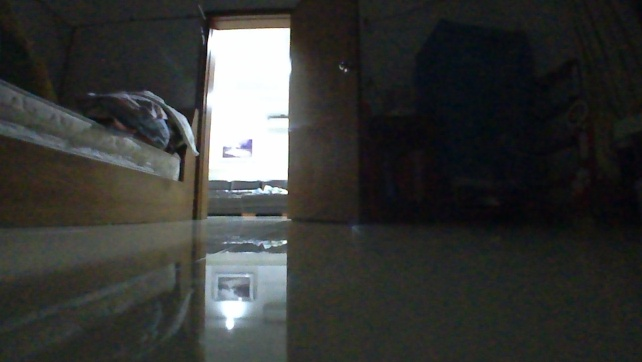bed1: (0, 73, 202, 232)
door_anno: (283, 0, 362, 223)
sofa1: (205, 179, 289, 220)
